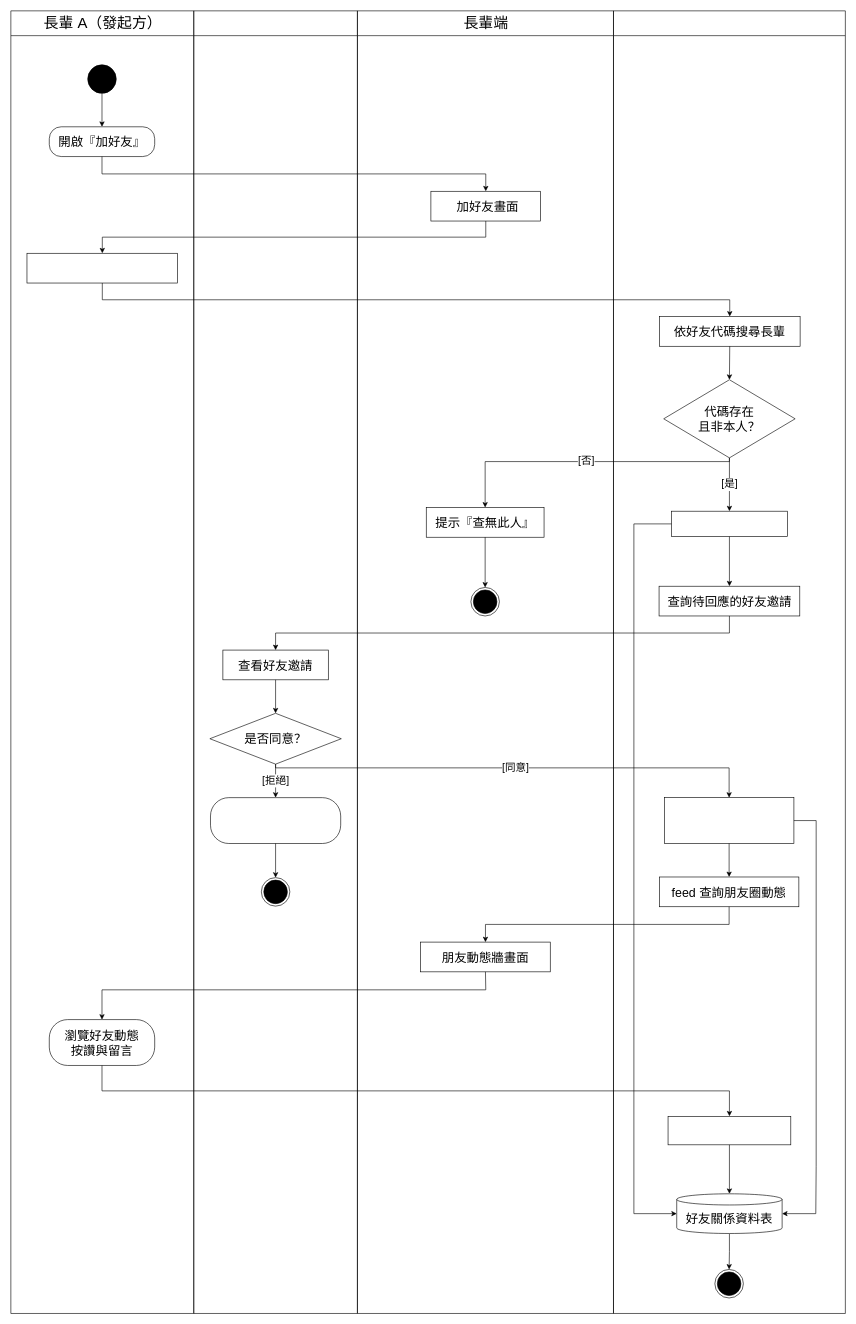
Some shapes in this 856 by 1324 pixel diagram are drawn without their labels. The box of each missing label's shape, as (x1, y1, x2, y2) in pixels:
friend/respond 狀態改為 accepted: (664, 797, 794, 844)
uban-api 後端: (613, 10, 845, 1313)
按讚與留言: (667, 1116, 791, 1145)
維持未成立 雙方看不到彼此動態: (210, 797, 341, 844)
輸入對方 4 碼好友代碼: (26, 253, 178, 283)
送出好友邀請: (671, 511, 787, 537)
長輩 B（受邀方）: (193, 10, 357, 1313)
